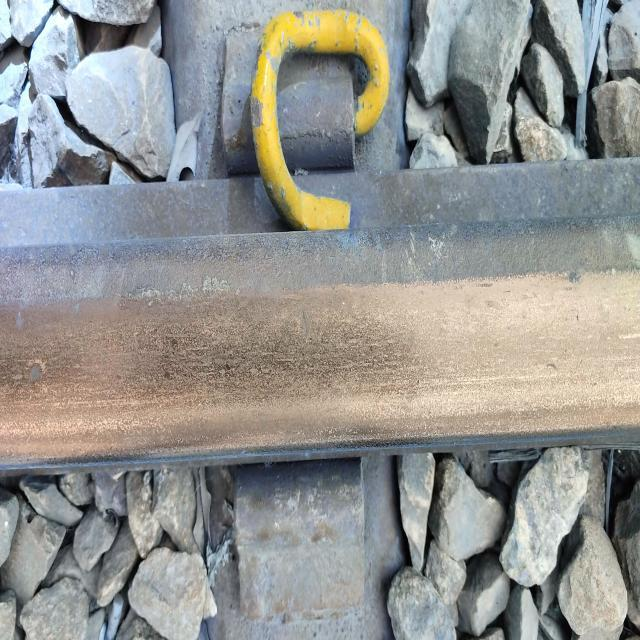Good Fasteners: (223, 10, 390, 230)
Missing Fastener: (206, 454, 403, 640)
